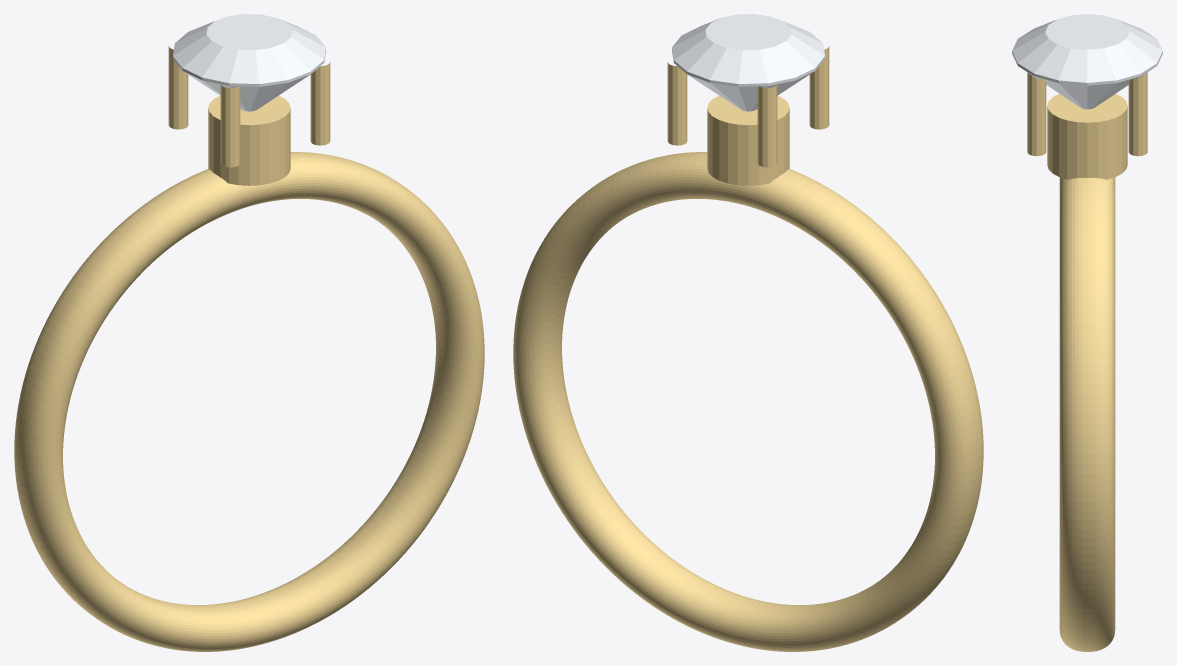
The model's file is ring.glb.
3 renders of one model, left to right at view 1: azimuth 30°, elevation 25°; view 2: azimuth 150°, elevation 25°; view 3: azimuth 270°, elevation 25°, orthographic. The views are drawn at different scales.
Visible parts, largest first — view 1: ring_metal, ring_stone; view 2: ring_metal, ring_stone; view 3: ring_metal, ring_stone.
Part boxes in pixels (x1,y1,x2,y2): ring_metal: [14, 46, 484, 651]; ring_stone: [173, 14, 325, 111]; ring_metal: [513, 46, 983, 651]; ring_stone: [672, 14, 824, 111]; ring_metal: [1027, 72, 1147, 651]; ring_stone: [1012, 14, 1162, 109].
Bounding box in the file's own units: 0.0206 × 0.0261 × 0.006.
